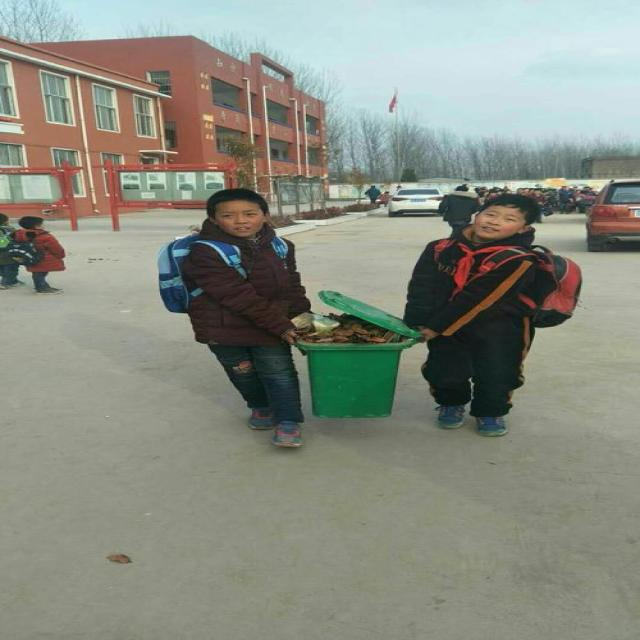overflow: (291, 291, 416, 418)
